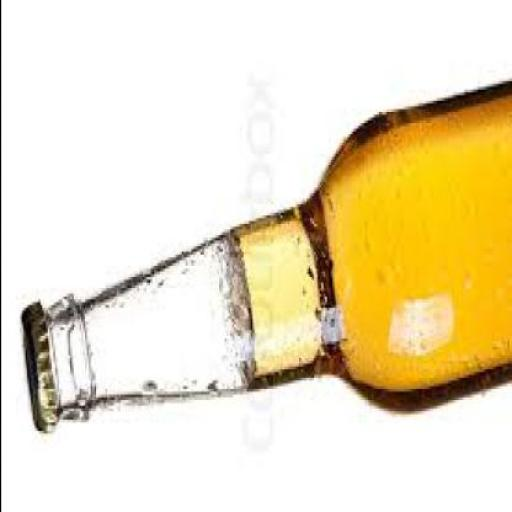glass: (35, 80, 510, 422)
metal: (18, 308, 58, 436)
